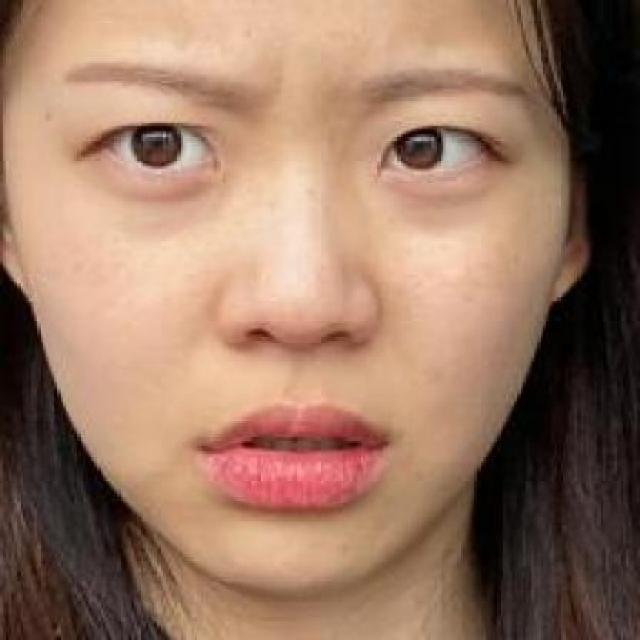angry: (29, 38, 540, 614)
